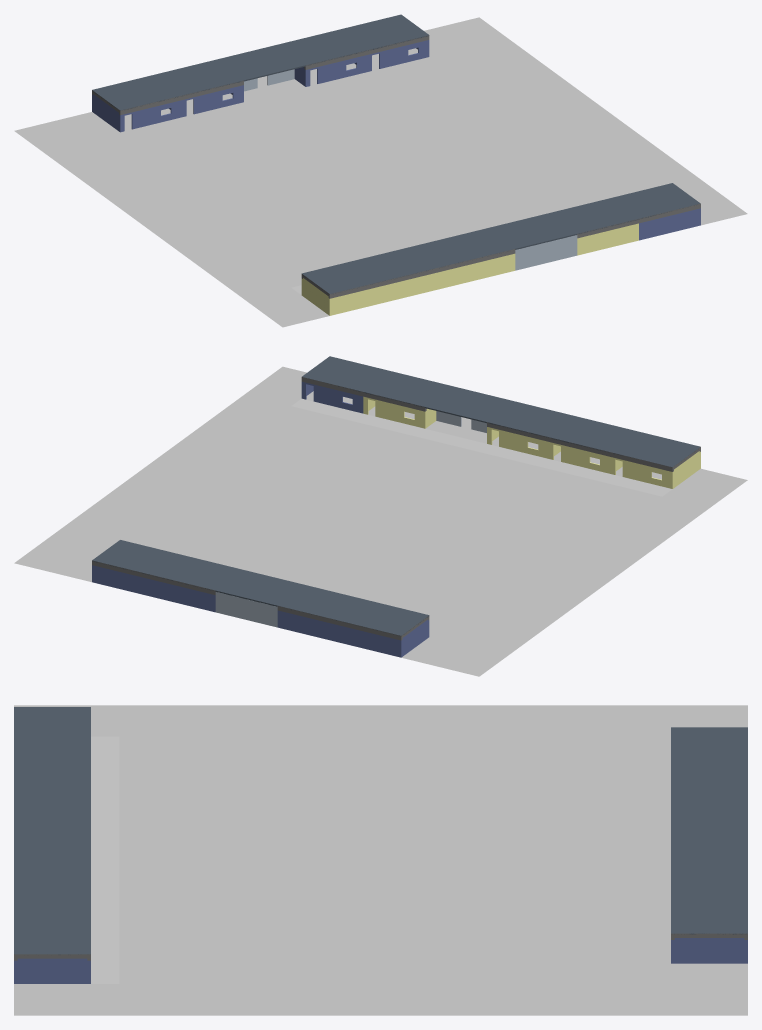
The picture shows the model from 3 angles, top to bottom: view 1: azimuth 30°, elevation 25°; view 2: azimuth 150°, elevation 25°; view 3: azimuth 270°, elevation 25°; orthographic projection. The views are drawn at different scales.
Visible parts, largest first — view 1: object 19, Pabellones, object 17, object 2; view 2: object 19, Pabellones, object 17, object 18, object 11; view 3: object 19, Pabellones, object 17, object 18.
Part boxes in pixels (left/top/right/bottom): object 19: left=14, top=17, right=747, bottom=327; Pabellones: left=92, top=14, right=700, bottom=315; object 17: left=187, top=133, right=418, bottom=248; object 2: left=515, top=235, right=577, bottom=270; object 19: left=14, top=366, right=747, bottom=676; Pabellones: left=92, top=356, right=700, bottom=657; object 17: left=343, top=483, right=574, bottom=597; object 18: left=291, top=398, right=672, bottom=496; object 11: left=215, top=592, right=277, bottom=627; object 19: left=14, top=705, right=747, bottom=1015; Pabellones: left=14, top=707, right=747, bottom=983; object 17: left=216, top=771, right=545, bottom=845; object 18: left=91, top=736, right=119, bottom=983.
Size of what is drawn, in the model's own units: 3122 by 141 by 3122.
